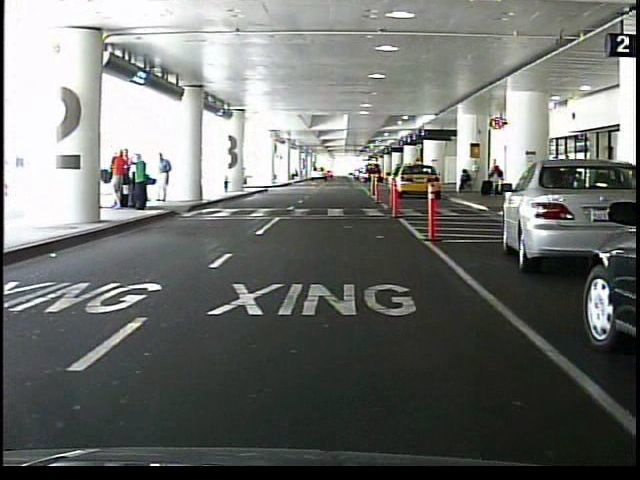person: (133, 153, 151, 212), (114, 149, 129, 208), (156, 153, 173, 205), (486, 161, 500, 198), (455, 170, 471, 196)
